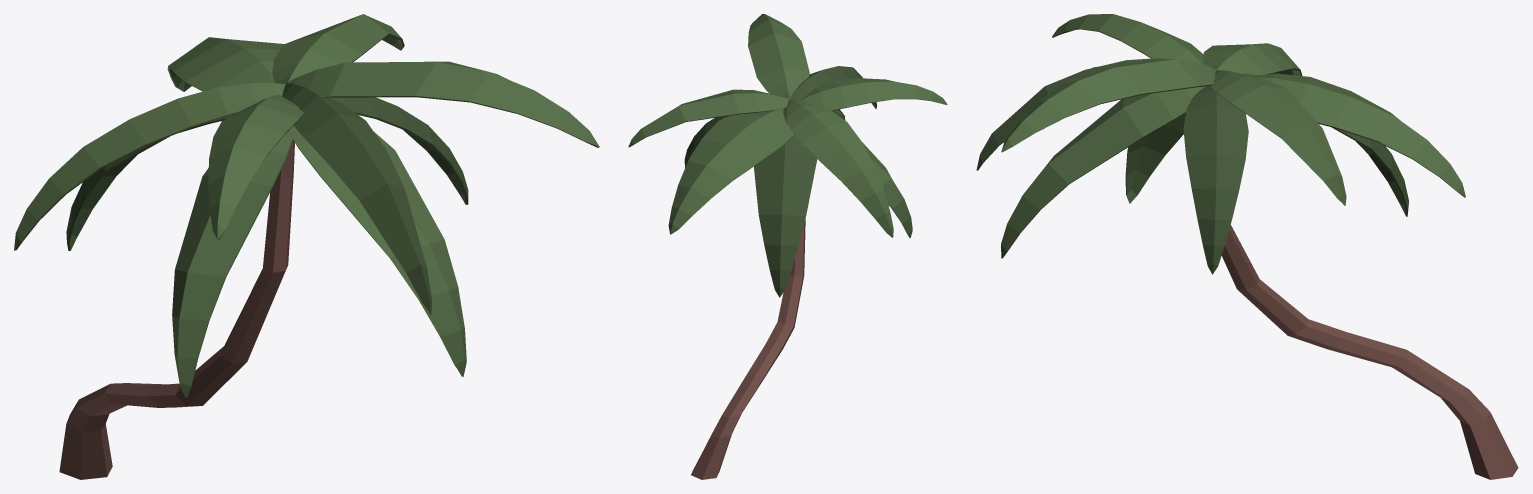
Rendered from PalmTree_2.glb.
3 renders of one model, left to right at view 1: azimuth 30°, elevation 25°; view 2: azimuth 150°, elevation 25°; view 3: azimuth 270°, elevation 25°, orthographic. The views are drawn at different scales.
Visible parts, largest first — view 1: PalmTree_2; view 2: PalmTree_2; view 3: PalmTree_2.
Boxes of the visible parts, x1,y1,x2,y2 form: PalmTree_2: [14, 14, 599, 479]; PalmTree_2: [628, 14, 947, 479]; PalmTree_2: [976, 14, 1518, 479].
Bounding box in the file's own units: 2.32 × 2.91 × 3.18.
